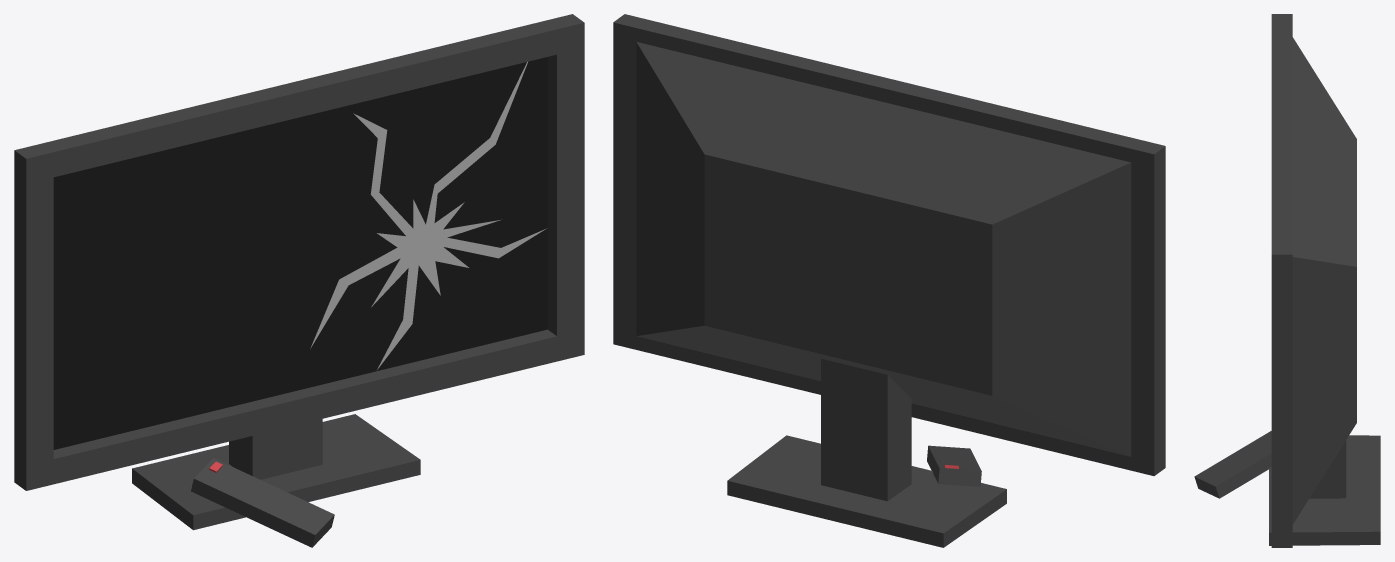
The model's file is televize.fbx.
3 renders of one model, left to right at view 1: azimuth 30°, elevation 25°; view 2: azimuth 150°, elevation 25°; view 3: azimuth 270°, elevation 25°, orthographic. The views are drawn at different scales.
Parts seen in each view (by area): view 1: televize; view 2: televize; view 3: televize.
Boxes of the visible parts, x1=… form: televize: x1=14, y1=14, x2=584, y2=547; televize: x1=613, y1=14, x2=1165, y2=547; televize: x1=1194, y1=14, x2=1380, y2=547.
Bounding box in the file's own units: 264 × 189 × 86.3.
